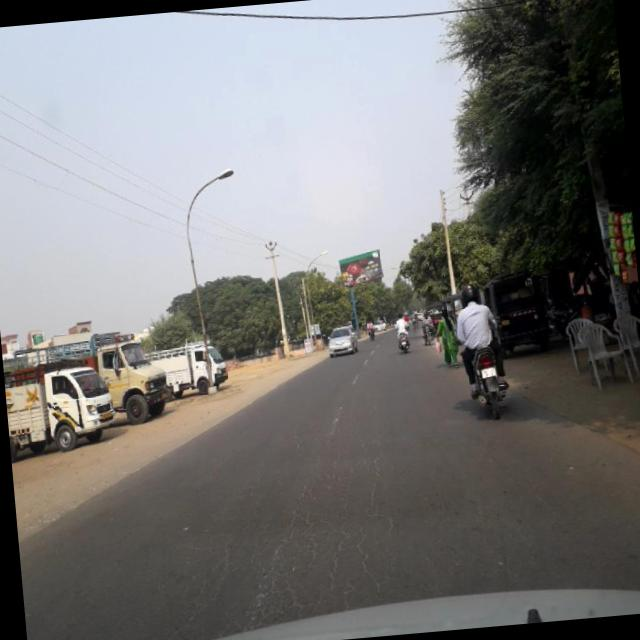crack: (182, 450, 434, 636)
